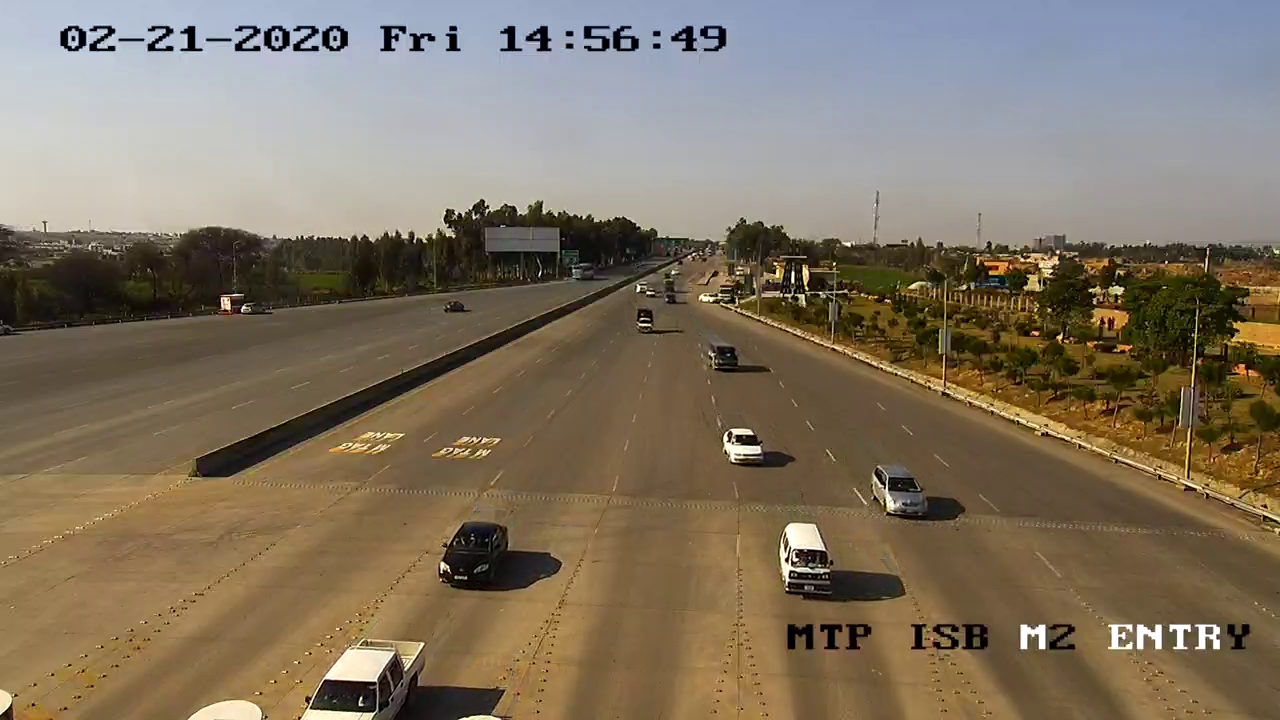f1: (280, 618, 438, 720), (429, 511, 522, 600), (769, 510, 845, 608), (859, 457, 940, 532), (711, 408, 779, 481)
